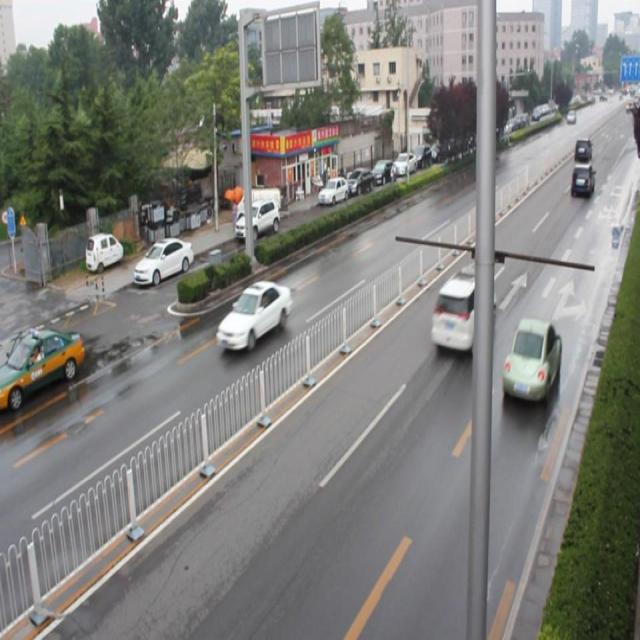car: (216, 280, 290, 354), (431, 269, 491, 357), (502, 316, 559, 403)
truck: (569, 160, 593, 200)
